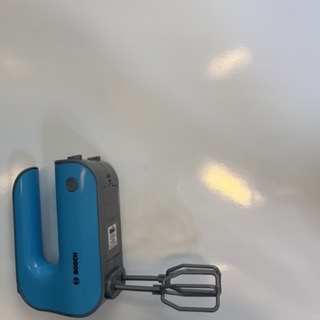mixer: (14, 155, 221, 316)
